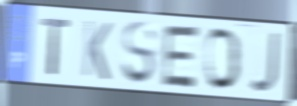E: (159, 23, 203, 91)
J: (248, 30, 283, 95)
K: (80, 18, 114, 83)
O: (204, 26, 243, 93)
S: (120, 19, 159, 88)
T: (40, 16, 72, 78)
